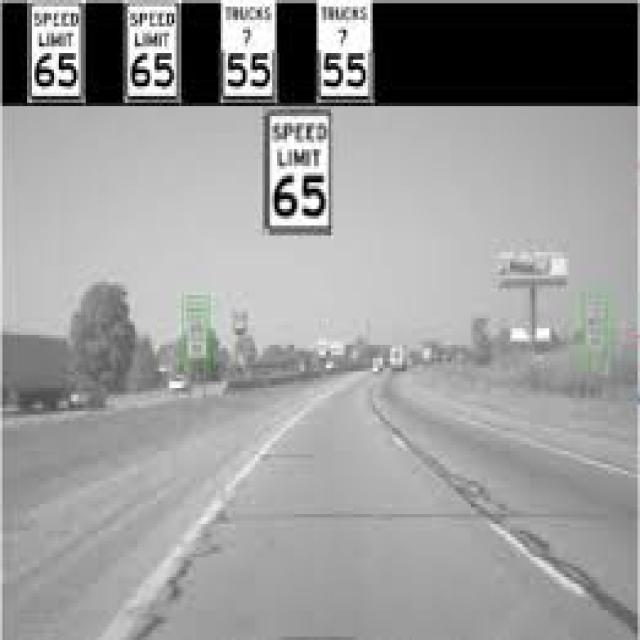speedLimit65: (264, 111, 334, 241), (27, 4, 84, 101), (124, 1, 180, 98)
